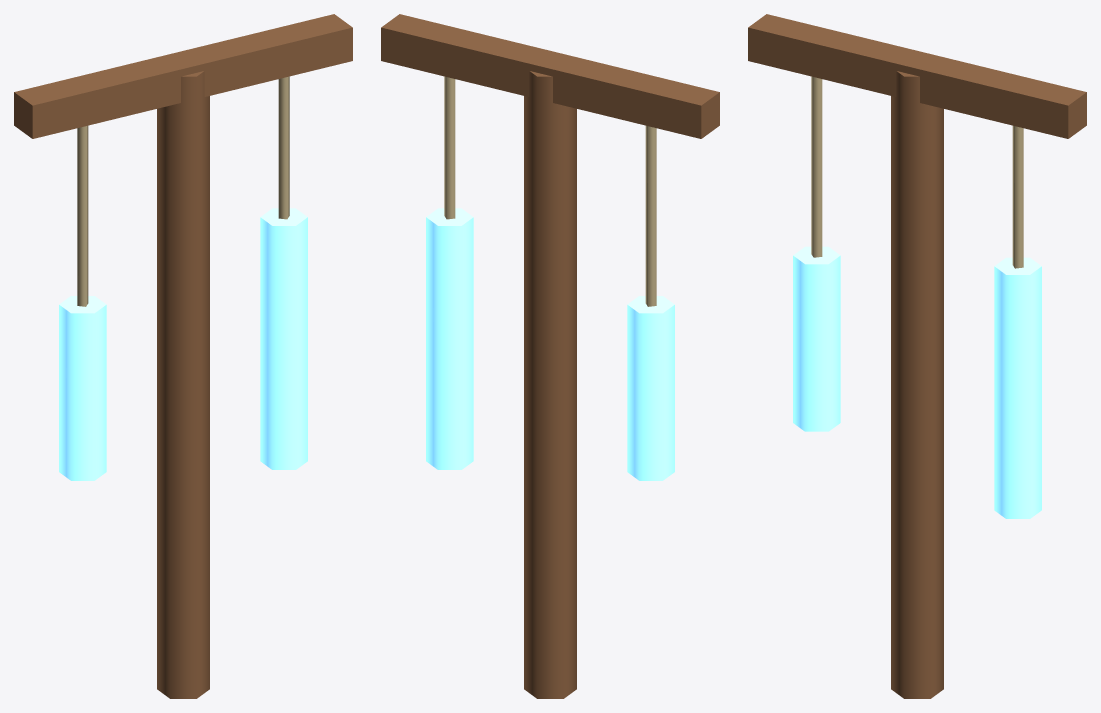
Rendered from windChime.glb.
3 renders of one model, left to right at view 1: azimuth 30°, elevation 25°; view 2: azimuth 150°, elevation 25°; view 3: azimuth 330°, elevation 25°, orthographic.
Bounding box in the file's own units: 0.7 × 1.31 × 0.1.
